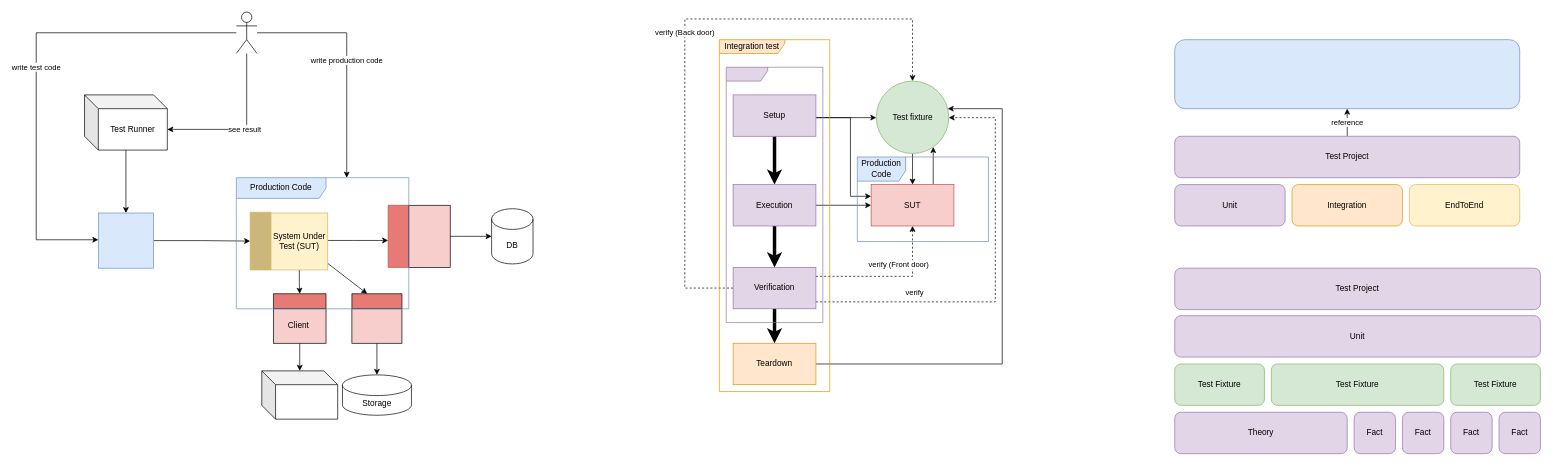
Some shapes in this 1553 by 466 pixel diagram are drawn without their labels. The shapes that lost their labels are listed below. From the top down, each one's box as (x1, y1, x2, y2) in pixels, then its label:
(236, 11, 257, 53): Development Team
(1174, 39, 1520, 109): Production Project
(726, 67, 823, 323): Unit test
(98, 212, 154, 268): Test Code
(408, 205, 450, 267): Data Access
(351, 308, 402, 343): Driver
(261, 370, 338, 419): External Services
